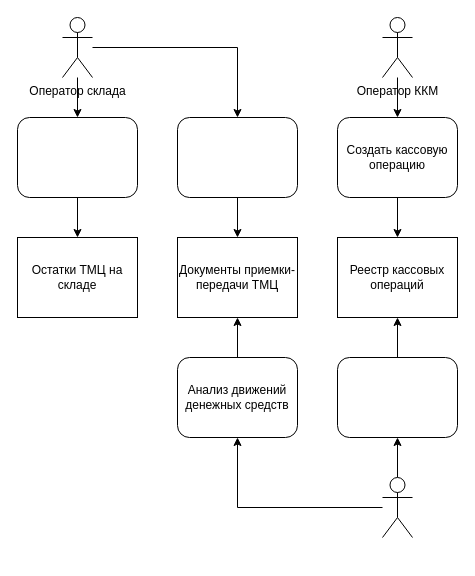
The diagram is 475 pixels wide and 576 high, and some of its shapes have lost their labels. Each missing label, with the centre of its shape:
Анализ кассовых операций: the point at 397,397
Бухгалтер: the point at 397,507
Закупка / анализ остатков: the point at 77,157
Оформление закрывающих документов: the point at 237,157
